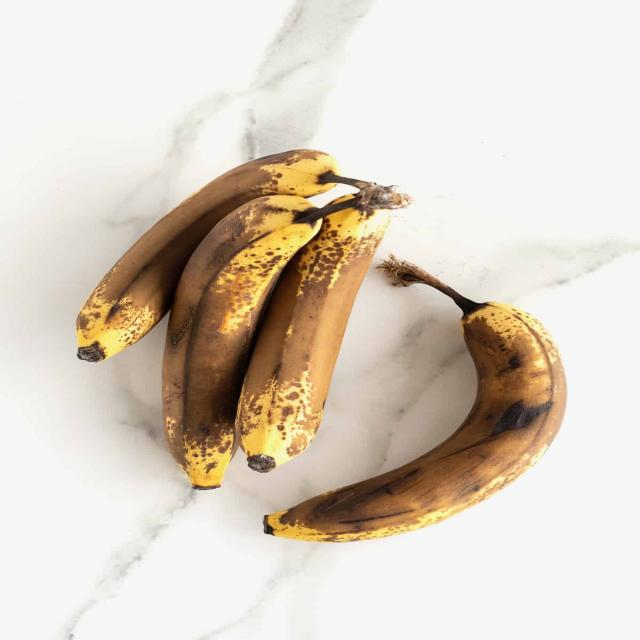banana: (262, 272, 570, 543), (76, 148, 335, 365), (161, 192, 323, 490), (237, 191, 396, 469)
